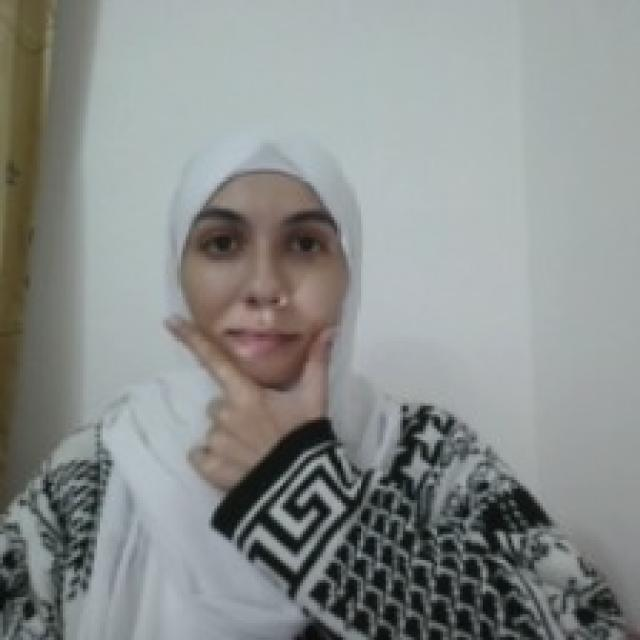smile: (160, 308, 348, 445)
